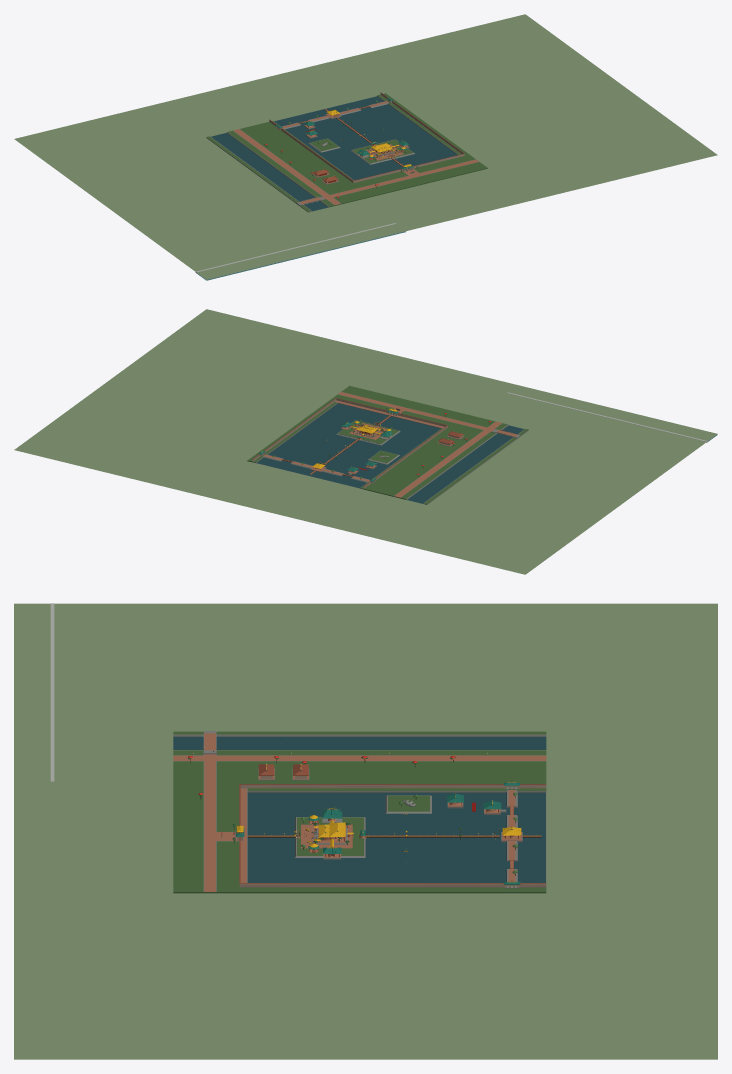
Rendered from T22_kim_thuy_dong_bac_tinh_tam_nam.glb.
3 views of the same model, one above another, from view 1: azimuth 30°, elevation 25°; view 2: azimuth 150°, elevation 25°; view 3: azimuth 270°, elevation 25° (orthographic). The views are drawn at different scales.
Visible parts, largest first — view 1: T22_V2_Satellite_Seamless_Base, T22_Base_Architecture; view 2: T22_V2_Satellite_Seamless_Base, T22_Base_Architecture; view 3: T22_V2_Satellite_Seamless_Base, T22_Base_Architecture.
Boxes of the visible parts, x1,y1,x2,y2 form: T22_V2_Satellite_Seamless_Base: (14,14,717,280); T22_Base_Architecture: (206,92,487,212); T22_V2_Satellite_Seamless_Base: (14,309,717,574); T22_Base_Architecture: (247,386,528,504); T22_V2_Satellite_Seamless_Base: (14,603,717,1059); T22_Base_Architecture: (173,731,546,893).
Bounding box in the file's own units: 880 × 13.68 × 574.
Materials: 23 (4 with a texture image).
